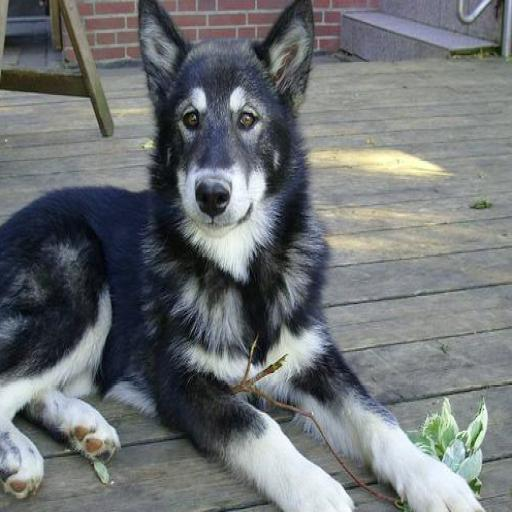dog_face: (135, 5, 315, 233)
